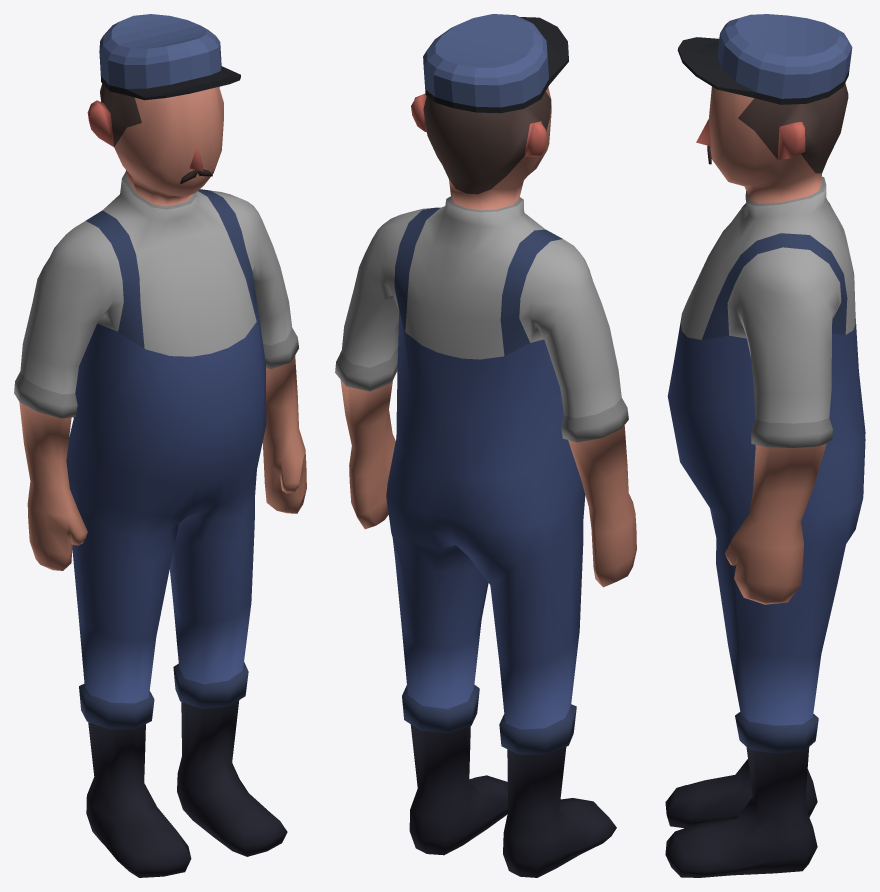
File: CHAR_Senior.fbx
The picture shows the model from 3 angles, left to right: view 1: azimuth 30°, elevation 25°; view 2: azimuth 150°, elevation 25°; view 3: azimuth 270°, elevation 25°; orthographic projection. The views are drawn at different scales.
Visible parts, largest first — view 1: CHAR_Senior, Senior_Hat; view 2: CHAR_Senior, Senior_Hat; view 3: CHAR_Senior, Senior_Hat.
Boxes of the visible parts, x1,y1,x2,y2 form: CHAR_Senior: (14,83,306,877); Senior_Hat: (99,14,240,100); CHAR_Senior: (335,87,636,877); Senior_Hat: (423,14,568,113); CHAR_Senior: (665,83,865,877); Senior_Hat: (677,14,852,104).
Size of the model in its own units: 0.6525 by 1.83 by 0.4058.
